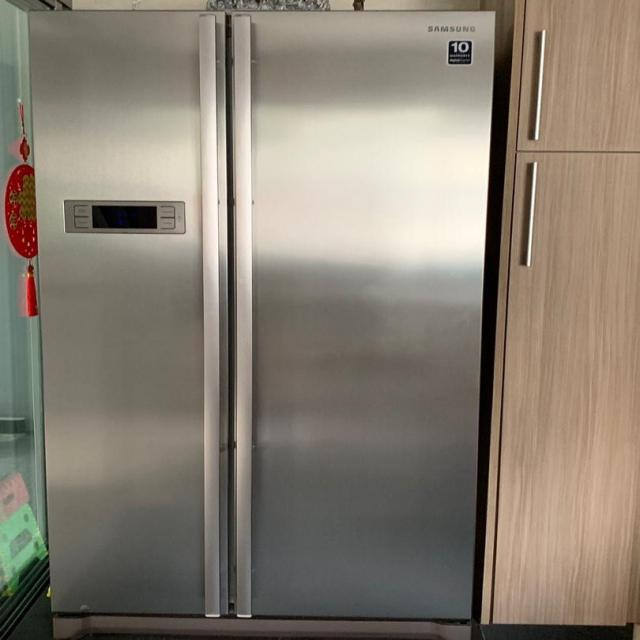refrigerator: (28, 8, 499, 618)
